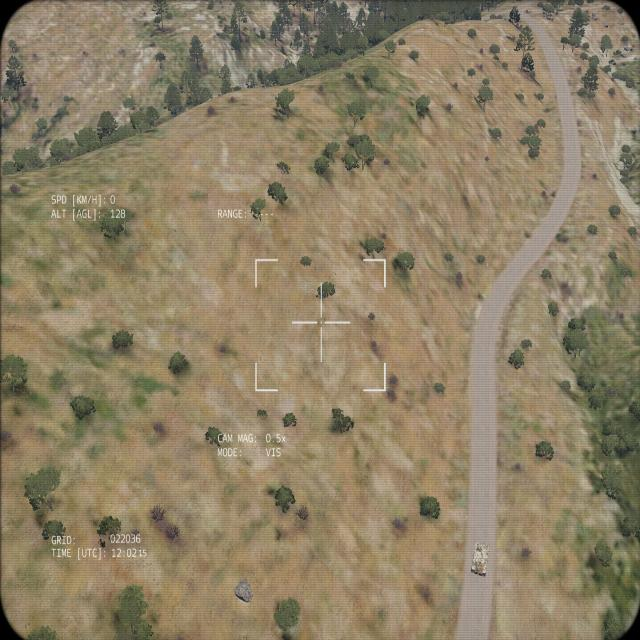tank: (469, 541, 490, 582)
